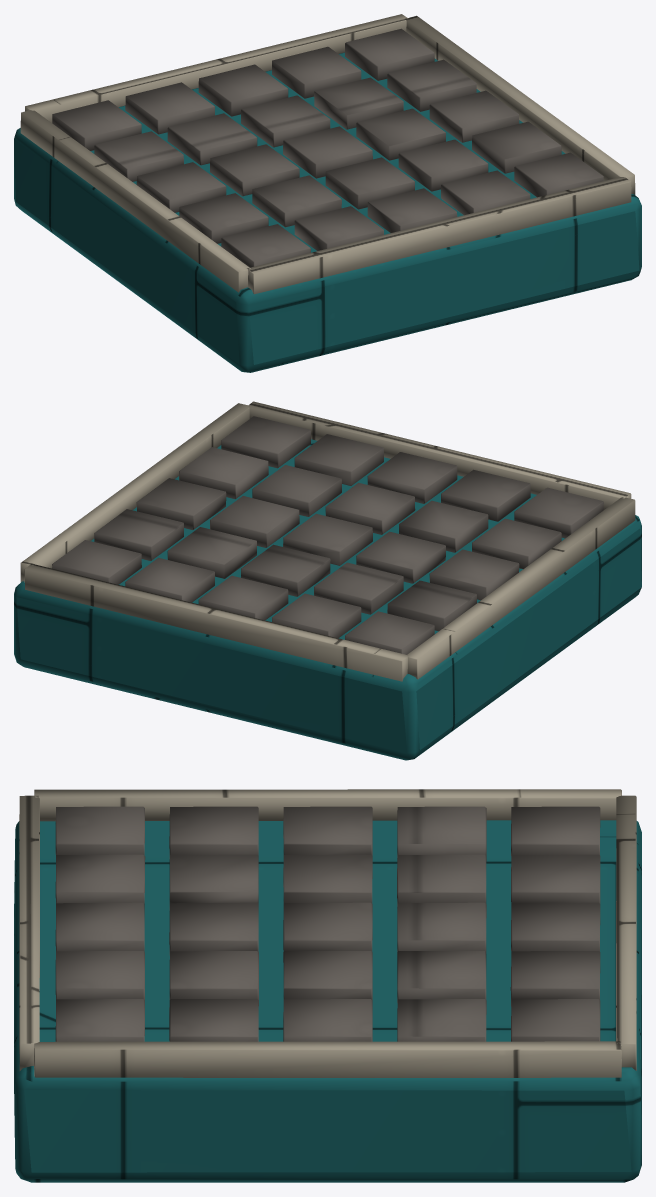
Rendered from ops_phased_array_tile_lod2.glb.
3 views of the same model, one above another, from view 1: azimuth 30°, elevation 25°; view 2: azimuth 150°, elevation 25°; view 3: azimuth 270°, elevation 25° (orthographic). The views are drawn at different scales.
Visible parts, largest first — view 1: LOD2_Ceramic, LOD2_Armor, LOD2_Hull; view 2: LOD2_Ceramic, LOD2_Armor, LOD2_Hull; view 3: LOD2_Ceramic, LOD2_Armor, LOD2_Hull.
Part boxes in pixels (x1=…): LOD2_Ceramic: x1=52, y1=28, x2=603, y2=267; LOD2_Armor: x1=14, y1=52, x2=641, y2=372; LOD2_Hull: x1=20, y1=14, x2=635, y2=294; LOD2_Ceramic: x1=52, y1=416, x2=603, y2=654; LOD2_Armor: x1=14, y1=439, x2=641, y2=760; LOD2_Hull: x1=20, y1=401, x2=635, y2=681; LOD2_Ceramic: x1=55, y1=806, x2=600, y2=1041; LOD2_Armor: x1=14, y1=820, x2=641, y2=1182; LOD2_Hull: x1=19, y1=789, x2=636, y2=1077.
Bounding box in the file's own units: 1.6 × 0.383 × 1.6.
3 materials, 3 textured.
